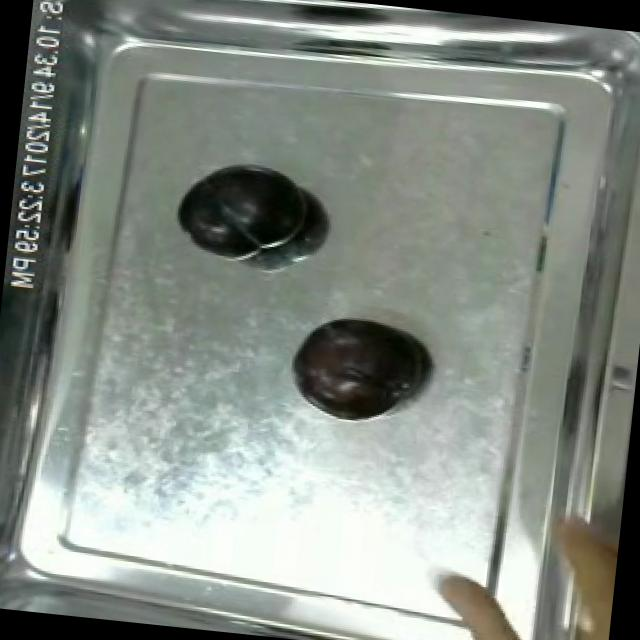Fruit: (165, 154, 316, 268), (286, 308, 430, 420)
